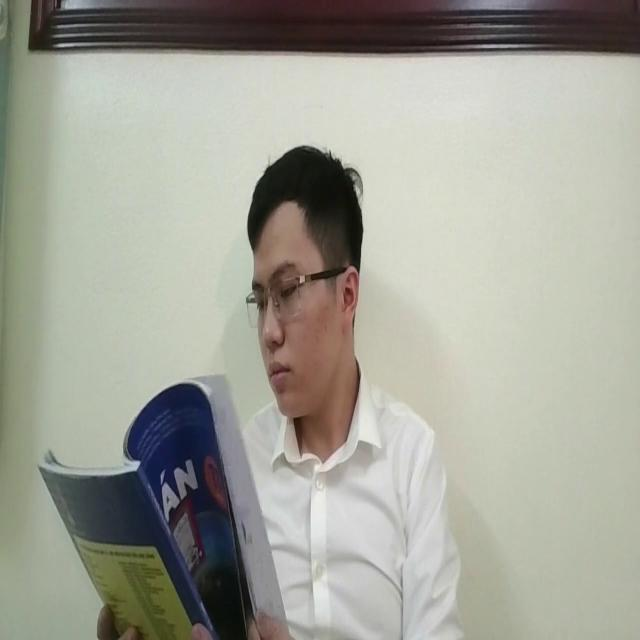book: (36, 368, 286, 638)
student: (242, 144, 464, 640)
